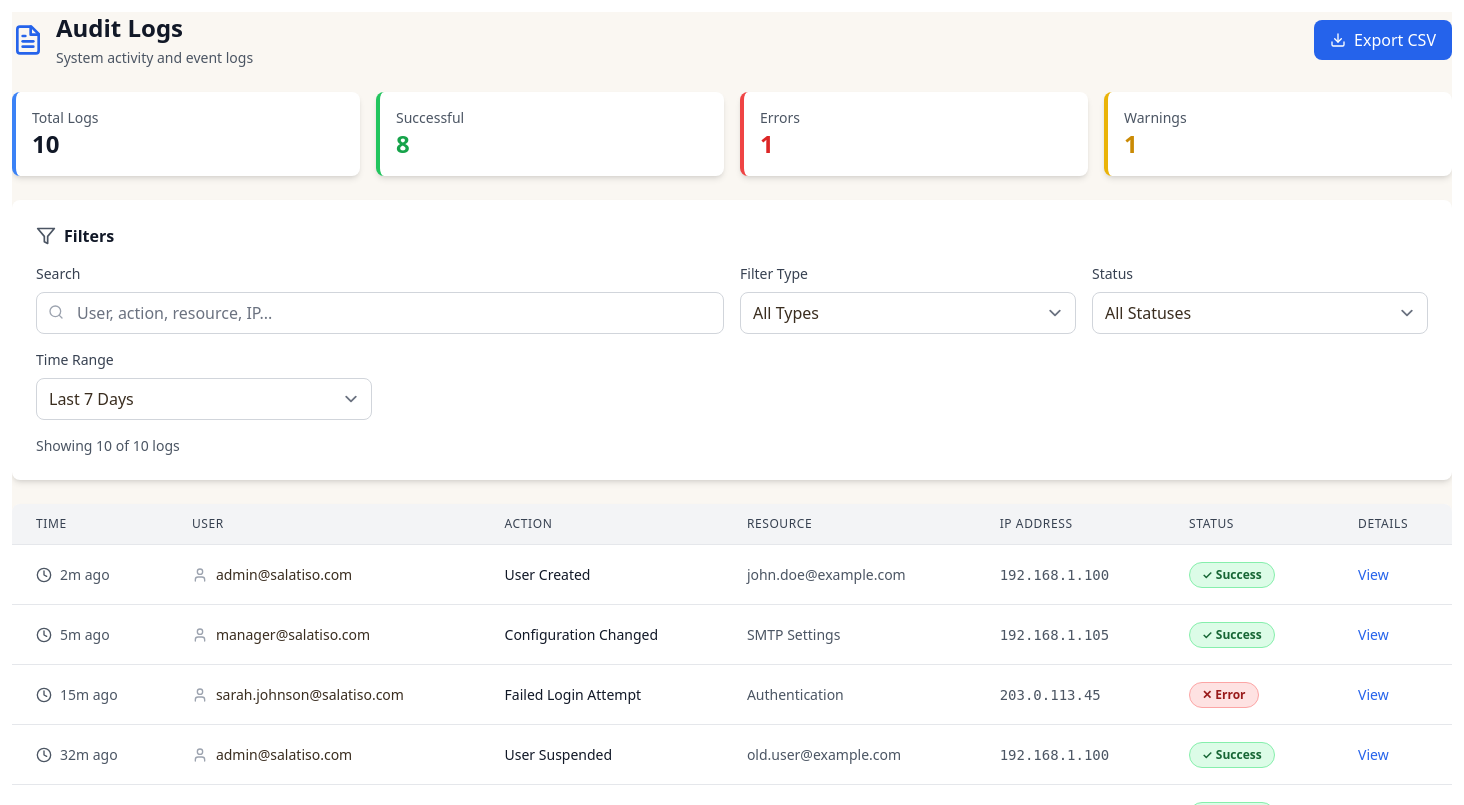
AuditLogViewer - Component › expandable row details
The width and height of the screenshot is (1464, 805).
Click the row that starts with "2m ago" at coordinates (85, 574), box [12, 544, 1452, 604]
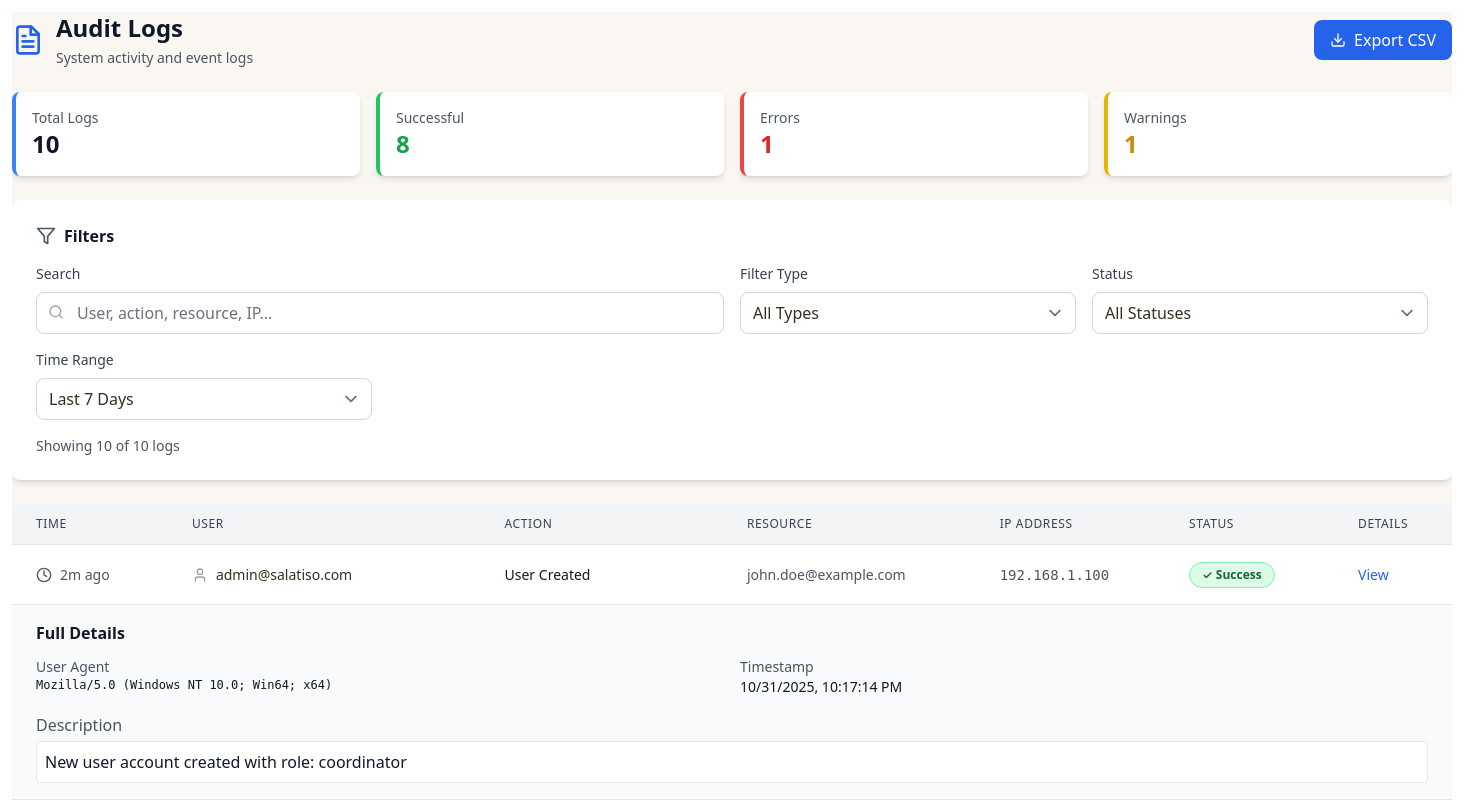
Expected: the text "User Agent" is shown, [36, 657, 109, 676]
